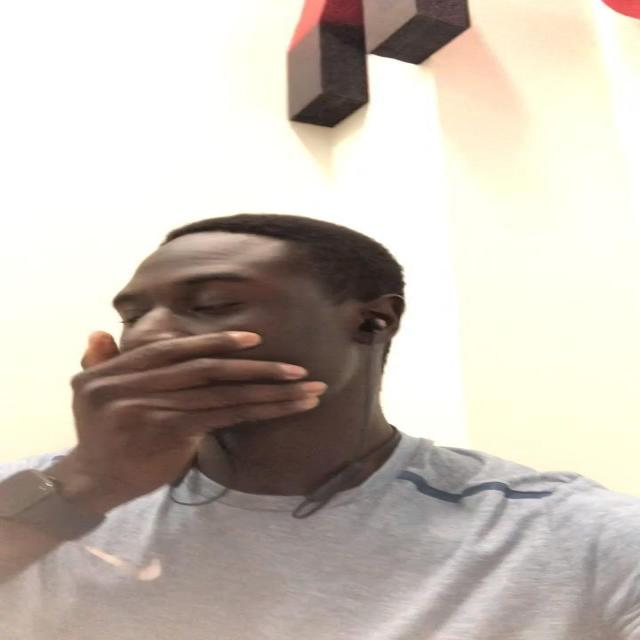face: (113, 244, 377, 436)
